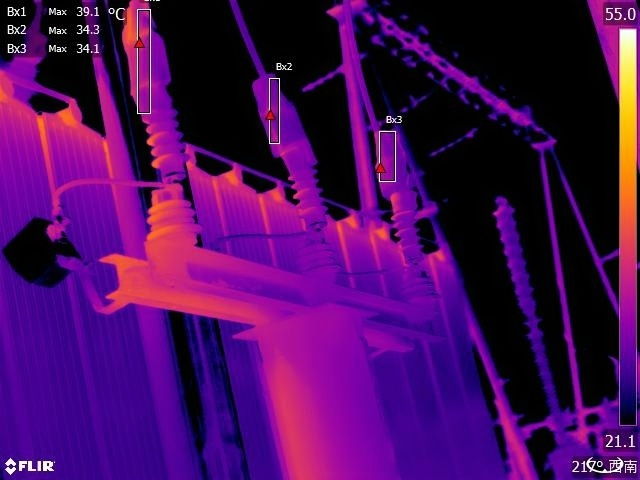circuit breaker: (492, 193, 566, 424)
insulator: (425, 121, 481, 160), (375, 93, 432, 129), (303, 59, 346, 93)
transformer: (1, 90, 510, 480)
tube: (251, 66, 332, 240), (125, 28, 197, 196), (384, 177, 429, 279)
